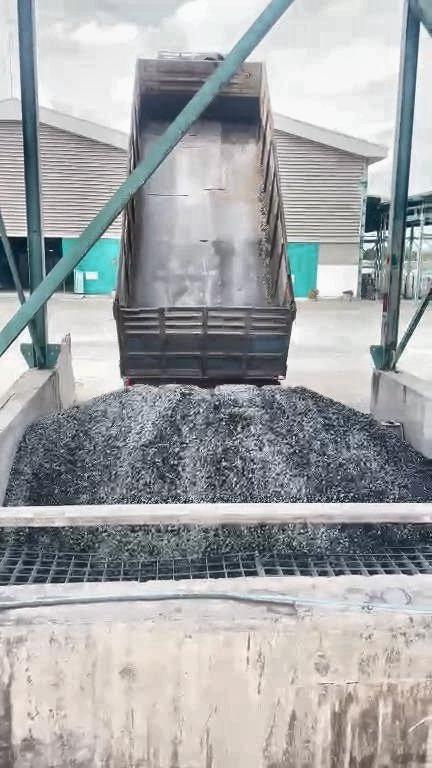gravel: (5, 386, 432, 505), (28, 526, 429, 556), (1, 528, 104, 553)
